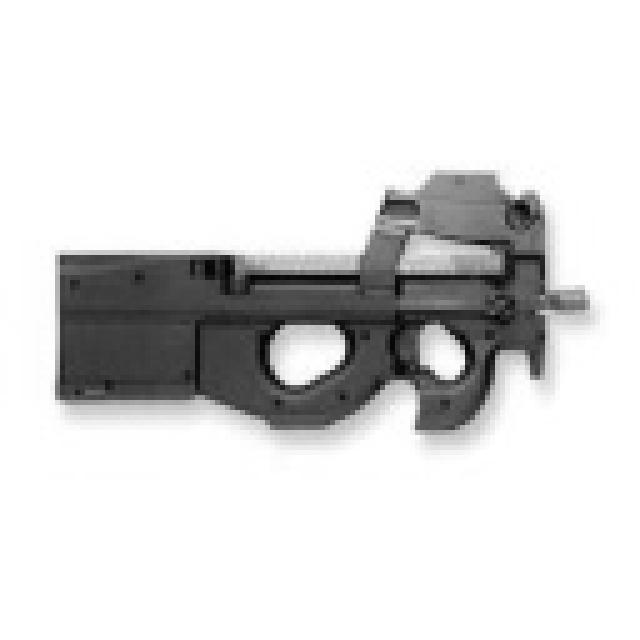Rifle: (0, 153, 609, 464)
